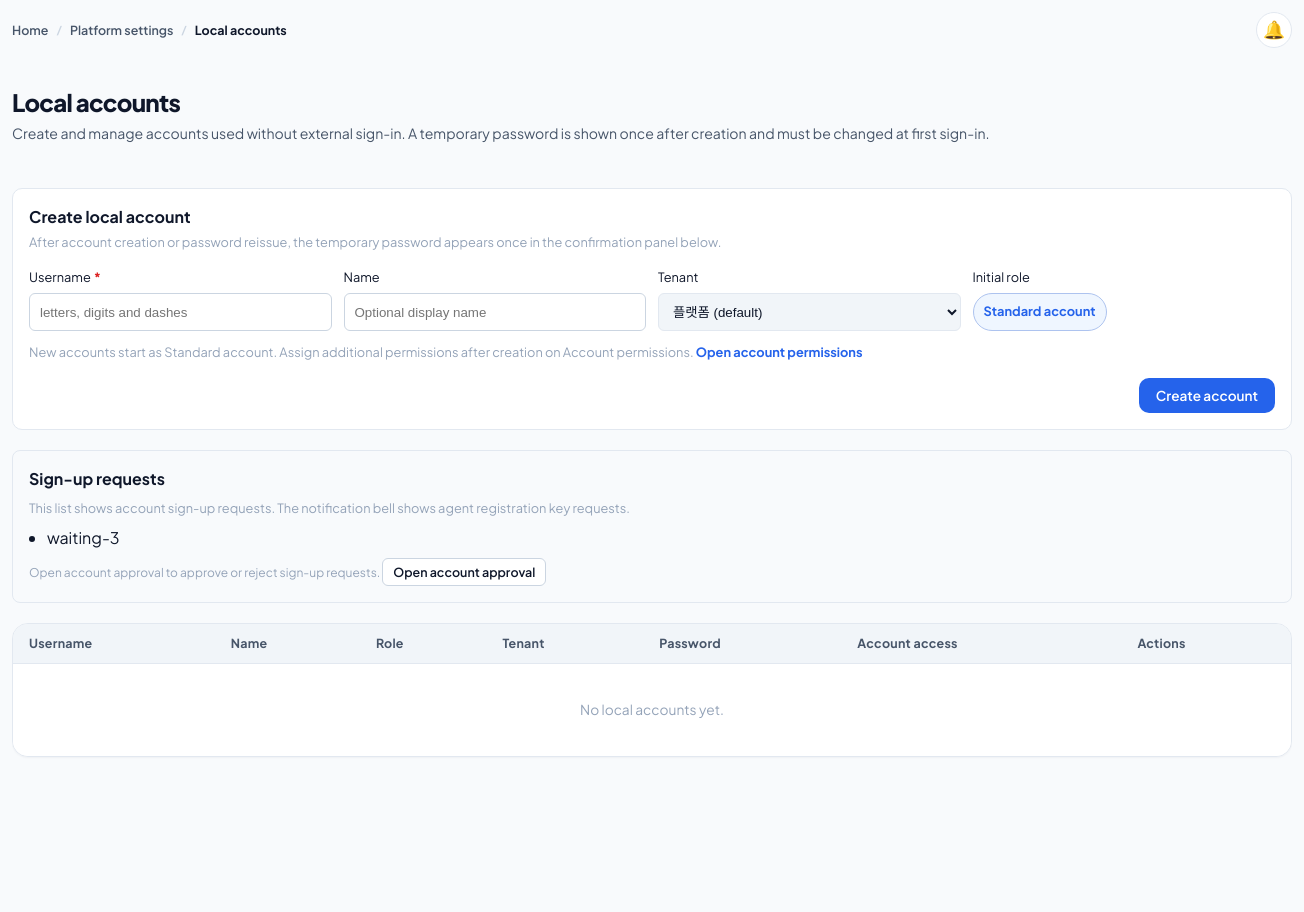
opening account approval inside the console › keeps the request visible and shows the server's refusal when a decision loses the race
The image size is (1304, 912).
Click the button with test id "open-admission-approval".
click(464, 572)  # box [382, 558, 546, 586]
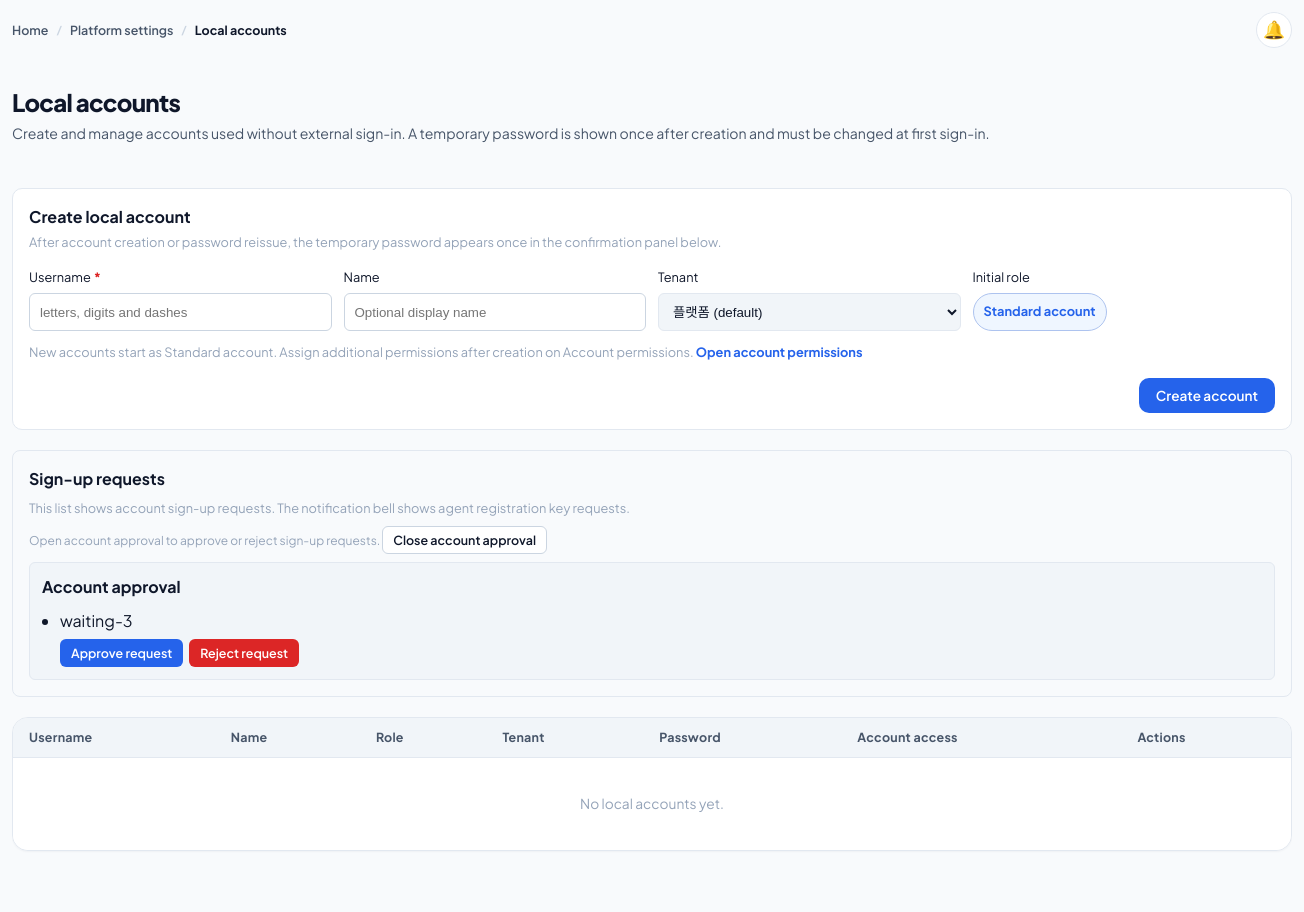
Click the button with test id "approve-admission-waiting-3".
click(122, 653)  # box [60, 639, 183, 667]
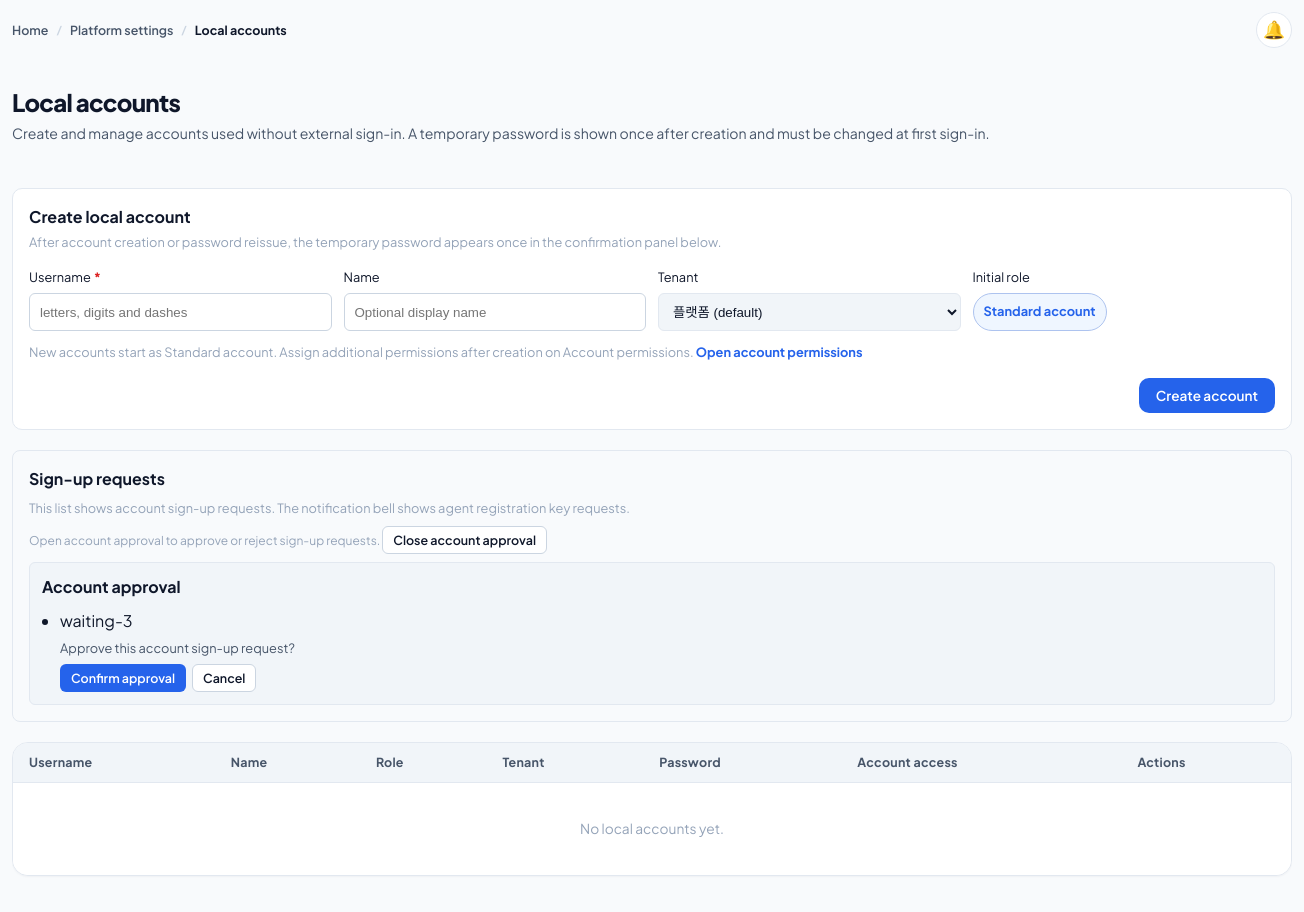
Click the button with test id "confirm-admission-submit-waiting-3".
click(123, 678)  # box [60, 664, 186, 692]
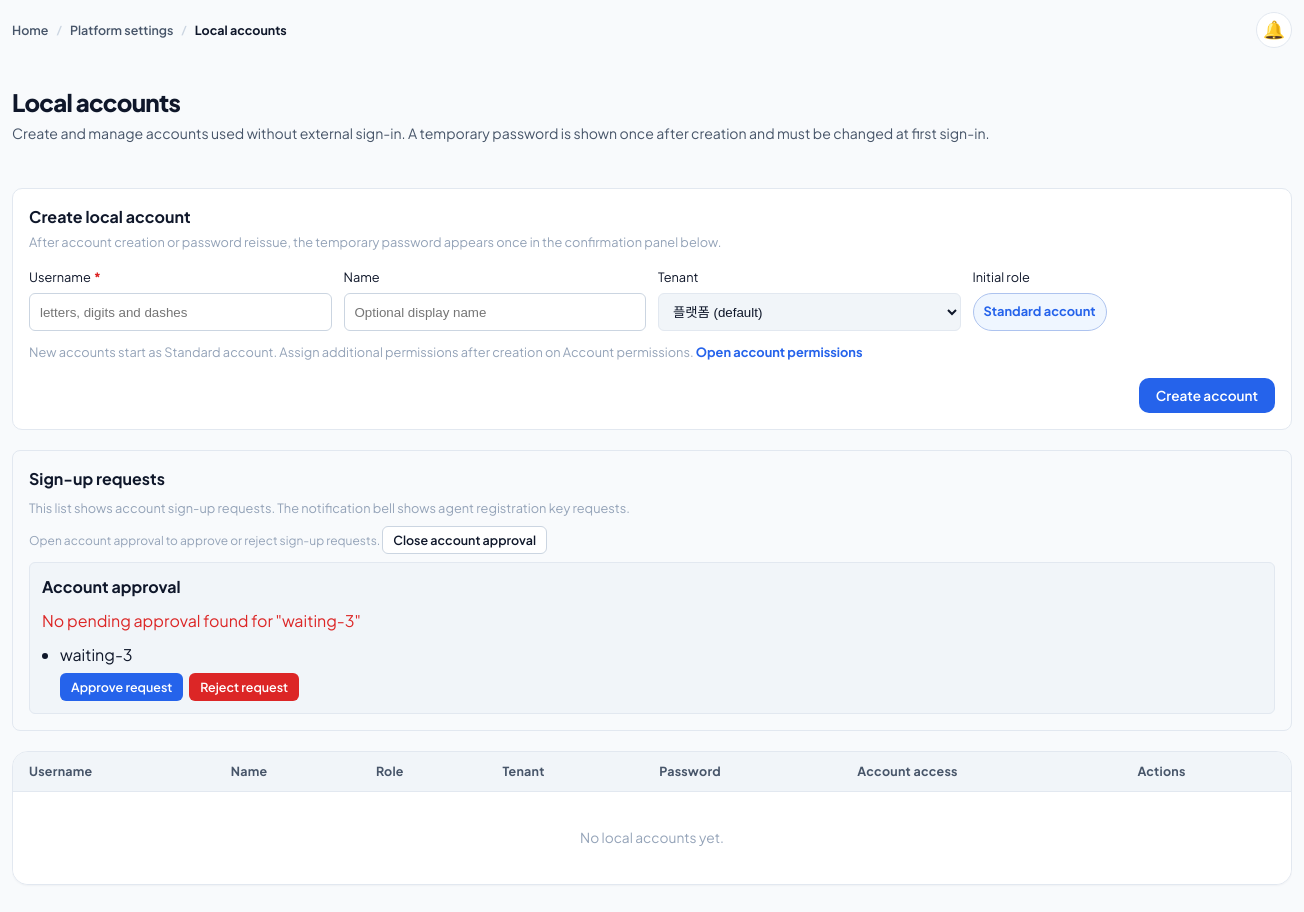
Expected: the list item with test id "admission-row-waiting-3" is shown, [60, 644, 299, 701]
Now the text with test id "admission-decision-error" reads "No pending approval found for \"waiting-3\"", box [42, 610, 361, 631]
